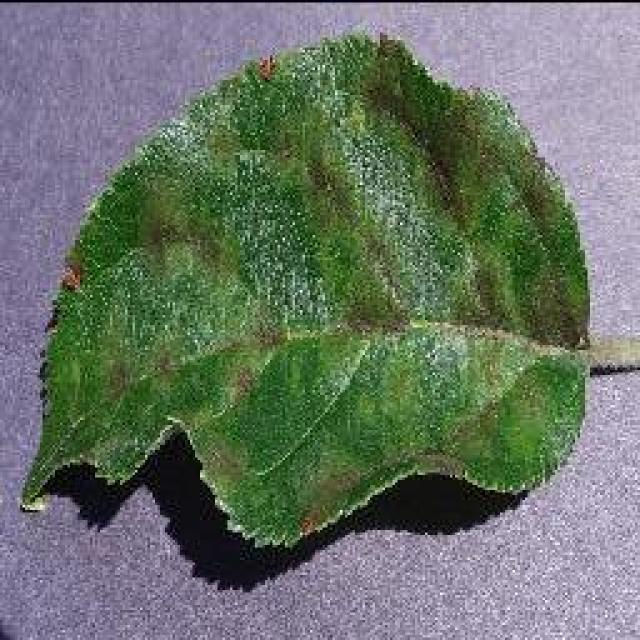apple scab disease: (18, 28, 598, 550)
